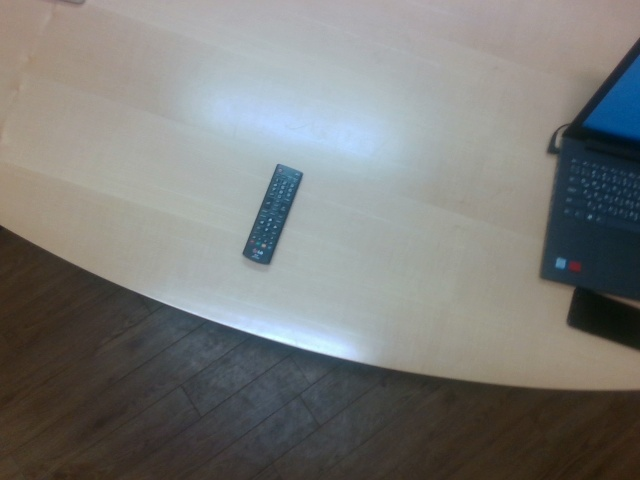remote: (242, 162, 305, 267)
